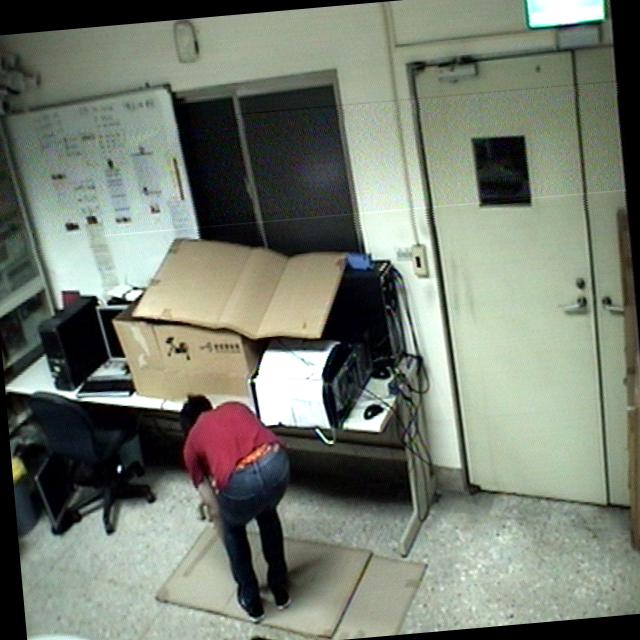bend: (172, 383, 306, 632)
